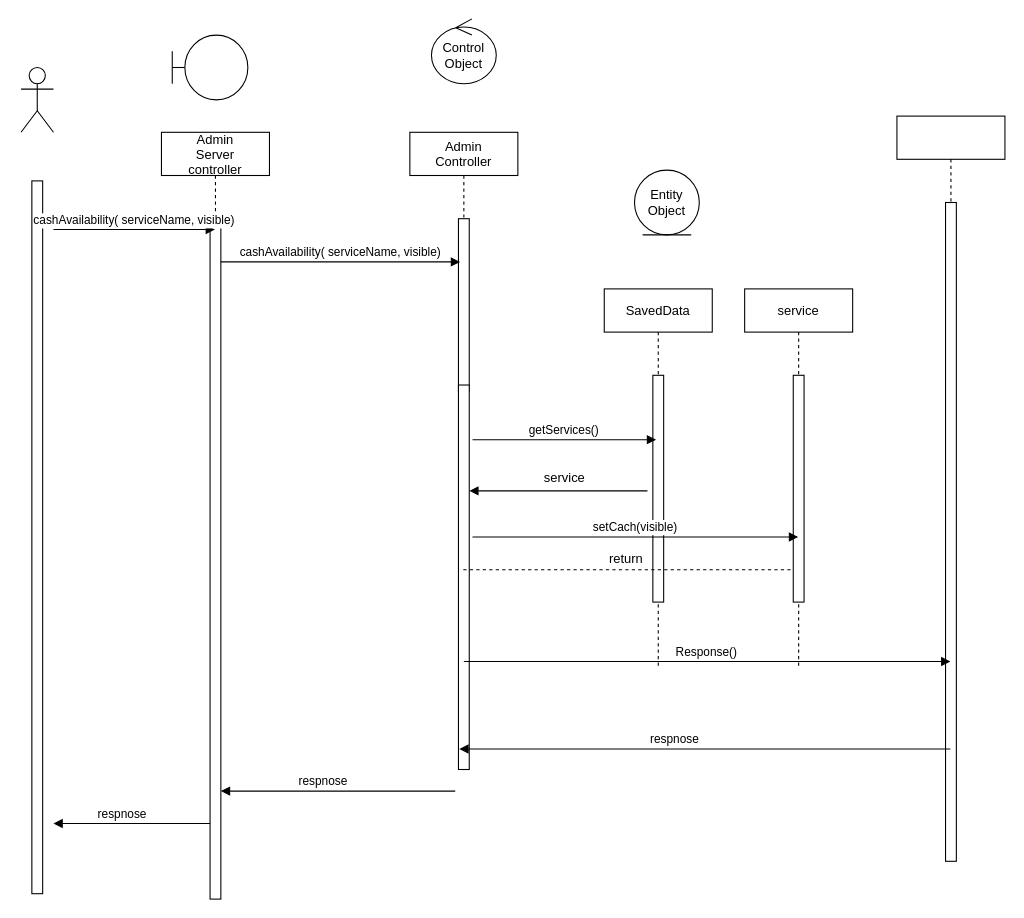
Image size: 1024x918. Some labels were removed from this diagram. Each missing label, with the box of its shape:
Admin: (20, 66, 53, 132)
Boundary Object: (171, 34, 248, 100)
Response: (896, 115, 1005, 840)
